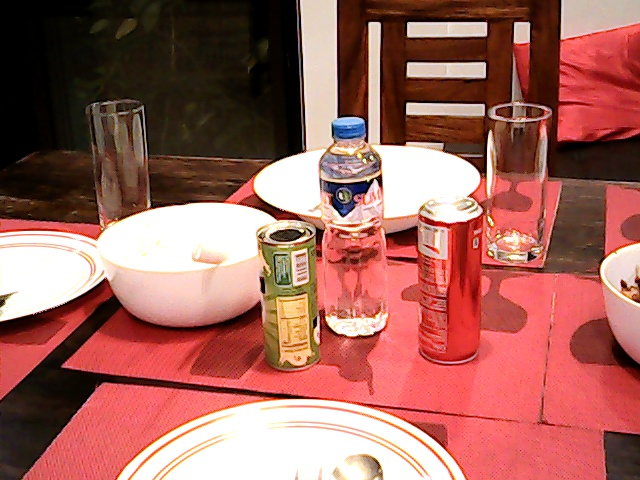Cola: (414, 191, 489, 375)
Pine Juice: (251, 217, 324, 375)
Summit Water: (325, 115, 388, 332)
